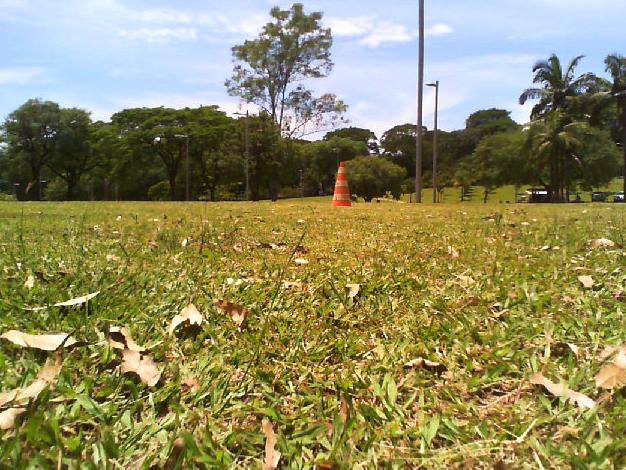0 cone: (331, 162, 352, 207)
